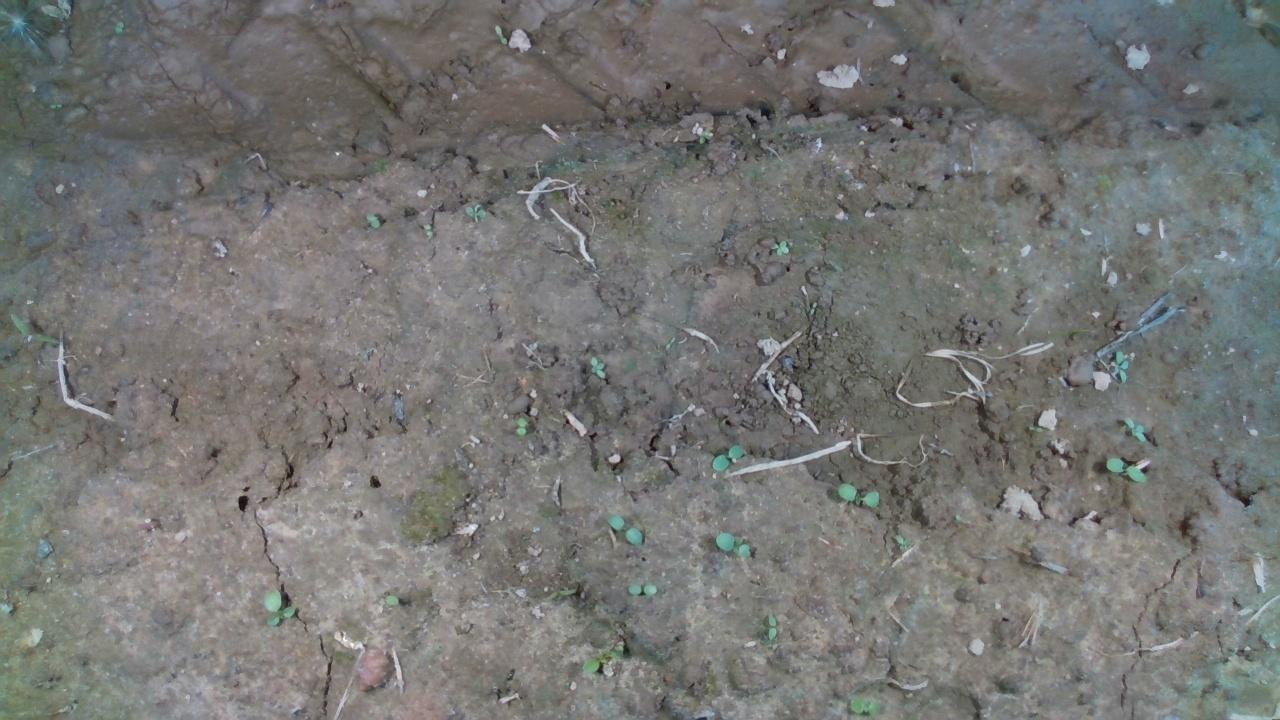weed: (255, 585, 293, 631), (1100, 452, 1149, 487), (834, 480, 882, 511), (604, 511, 643, 547), (1118, 415, 1152, 443), (1106, 346, 1134, 379), (712, 443, 745, 470), (624, 578, 661, 596), (461, 201, 492, 222), (767, 236, 791, 259), (361, 209, 382, 227), (376, 593, 395, 612)
